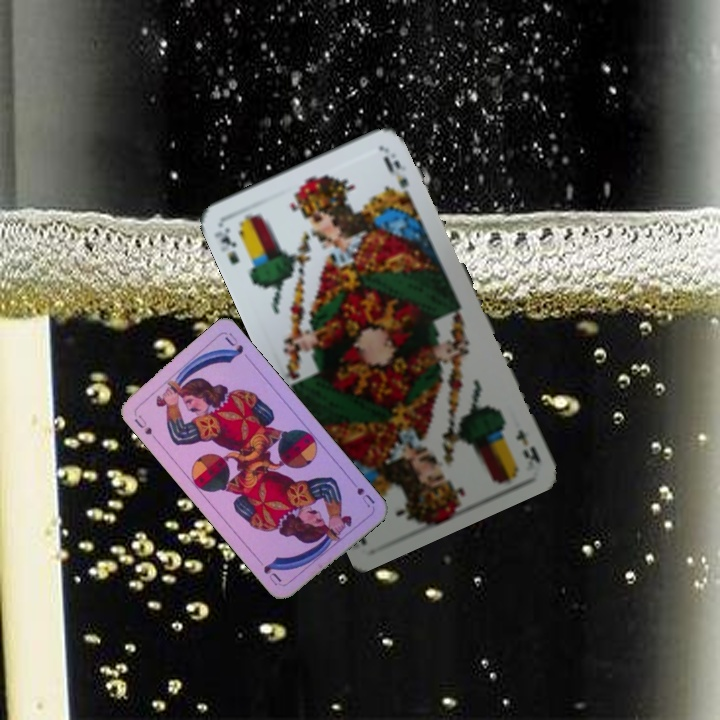EK: (210, 223, 242, 267), (512, 424, 543, 466)
SU: (347, 474, 377, 510), (130, 411, 155, 437)
